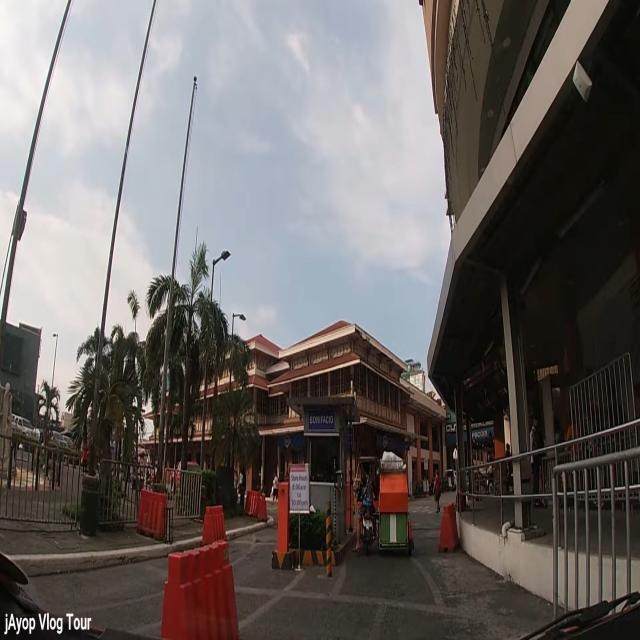tricycle: (357, 448, 415, 556)
